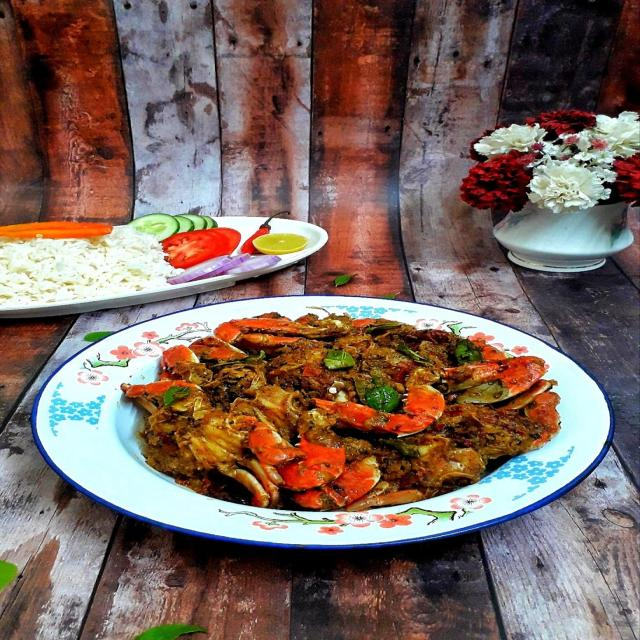nandu masala: (108, 295, 486, 512)
